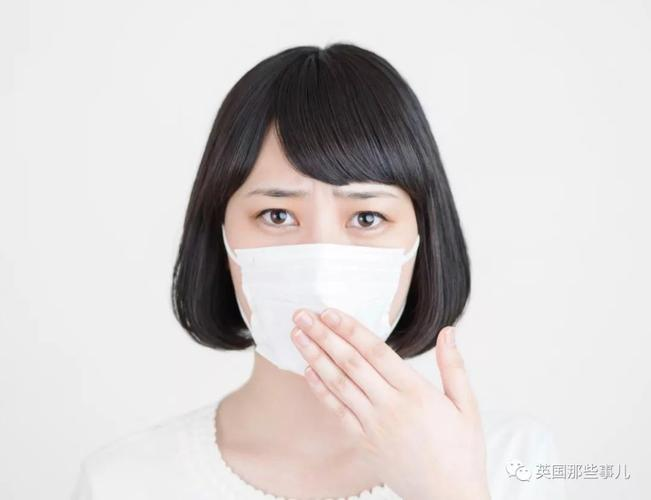mask: (216, 110, 420, 375)
